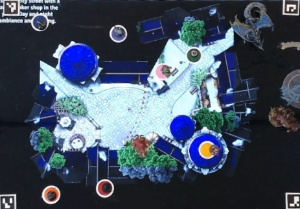blue: (27, 12, 50, 32)
green: (183, 46, 201, 64)
orange: (41, 182, 63, 206)
pink: (154, 62, 171, 82)
red: (92, 177, 116, 197)
violet: (106, 20, 131, 46)
yellow: (199, 138, 218, 160)
